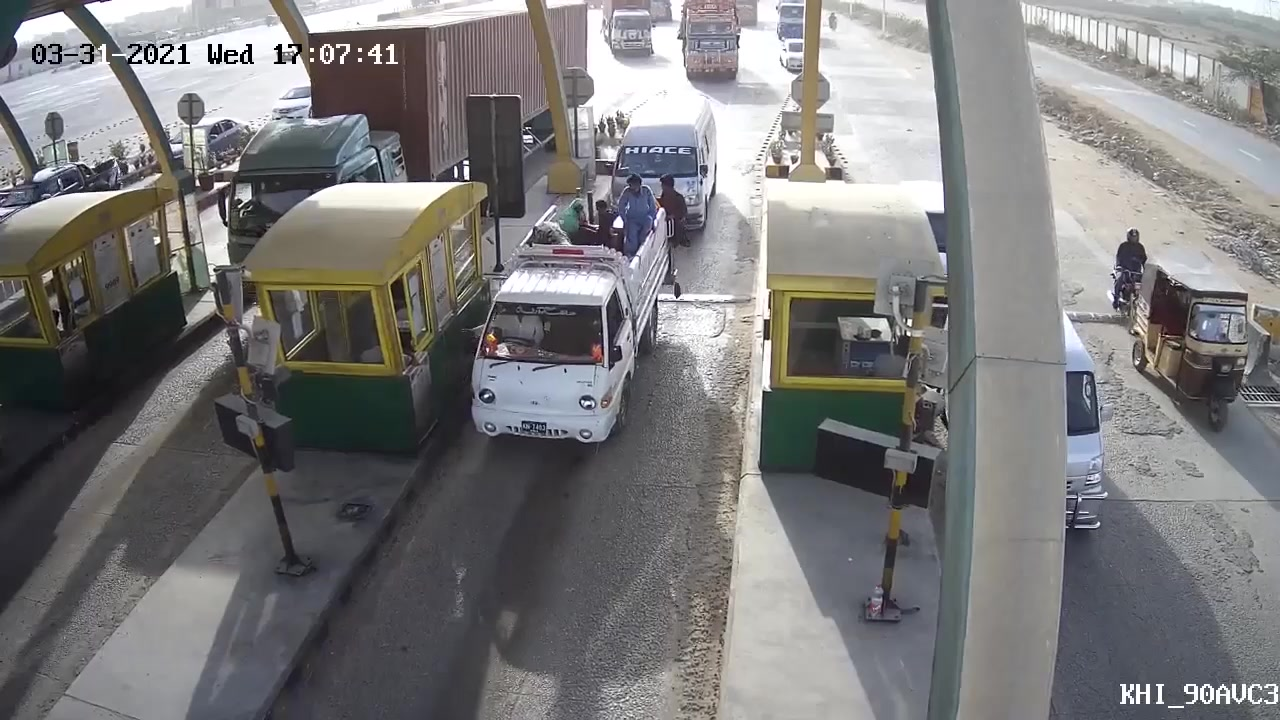F3: (456, 204, 672, 460)
